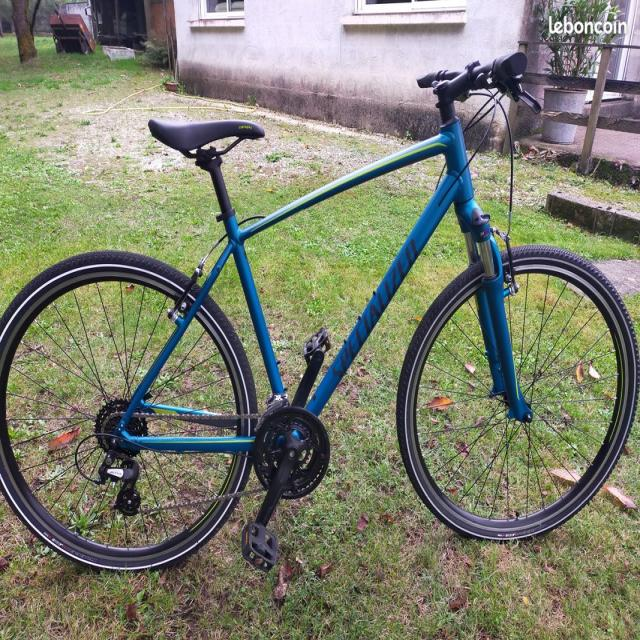Bike: (0, 52, 639, 571)
